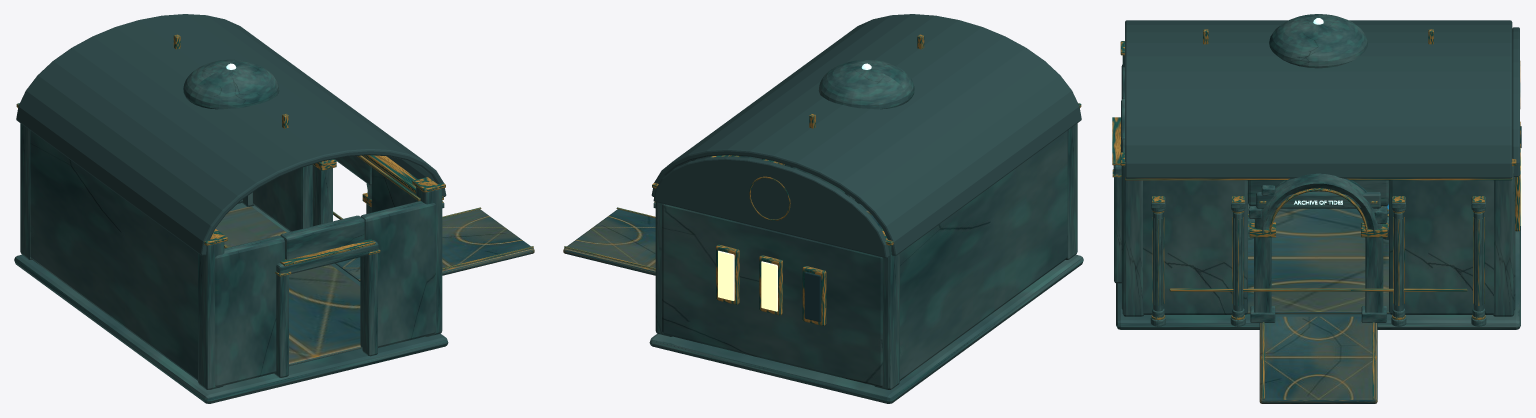
File: atlantis-archive.glb
3 renders of one model, left to right at view 1: azimuth 30°, elevation 25°; view 2: azimuth 150°, elevation 25°; view 3: azimuth 270°, elevation 25°, orthographic. The views are drawn at different scales.
Visible parts, largest first — view 1: ArchiveOfTides_BarrelRoof, ArchiveOfTides_RearWall, ArchiveOfTides_RearWallSegment_0, ArchiveOfTides_RearWallSegment_1, ArchiveOfTides_InteriorFloor, ArchiveOfTides_Foundation, ArchiveOfTides_Bridge, ArchiveOfTides_LanternDome, ArchiveOfTides_FacadePier_1, ArchiveOfTides_CornerButtress_00, ArchiveOfTides_RearDoorSpandrel, ArchiveOfTides_RearPortalJamb_1 (+9 smaller); view 2: ArchiveOfTides_BarrelRoof, ArchiveOfTides_SideWall_1, ArchiveOfTides_RearWall, ArchiveOfTides_NorthTympanum, ArchiveOfTides_Foundation, ArchiveOfTides_Bridge, ArchiveOfTides_LanternDome, ArchiveOfTides_CornerButtress_01, ArchiveOfTides_CornerButtress_00, ArchiveOfTides_CornerButtress_03, ArchiveOfTides_NorthTympanum_WindowGlow_00, ArchiveOfTides_NorthTympanum_WindowGlow_01 (+4 smaller); view 3: ArchiveOfTides_BarrelRoof, ArchiveOfTides_FacadePier_0, ArchiveOfTides_FacadePier_1, ArchiveOfTides_InteriorFloor, ArchiveOfTides_Bridge, ArchiveOfTides_Foundation, ArchiveOfTides_LanternDome, ColumnShaft_mesh (×4), ArchiveOfTides_CornerButtress_02, ArchiveOfTides_CornerButtress_03, ArchStoneArc_mesh, ArchiveOfTides_NamePlaque (+9 smaller).
Boxes of the visible parts, x1,y1,x2,y2 form: ArchiveOfTides_BarrelRoof: (16, 14, 446, 255); ArchiveOfTides_RearWall: (30, 131, 197, 380); ArchiveOfTides_RearWallSegment_0: (215, 235, 284, 387); ArchiveOfTides_RearWallSegment_1: (360, 201, 435, 347); ArchiveOfTides_InteriorFloor: (215, 206, 361, 366); ArchiveOfTides_Foundation: (14, 203, 448, 403); ArchiveOfTides_Bridge: (335, 209, 534, 281); ArchiveOfTides_LanternDome: (183, 59, 279, 109); ArchiveOfTides_FacadePier_1: (253, 164, 312, 231); ArchiveOfTides_CornerButtress_00: (198, 242, 224, 389); ArchiveOfTides_RearDoorSpandrel: (280, 215, 364, 259); ArchiveOfTides_RearPortalJamb_1: (362, 253, 377, 356); ArchiveOfTides_BarrelRoof: (651, 14, 1081, 255); ArchiveOfTides_SideWall_1: (662, 203, 882, 387); ArchiveOfTides_RearWall: (900, 131, 1067, 380); ArchiveOfTides_NorthTympanum: (653, 156, 889, 257); ArchiveOfTides_Foundation: (649, 203, 1083, 403); ArchiveOfTides_Bridge: (563, 209, 655, 275); ArchiveOfTides_LanternDome: (818, 59, 914, 109); ArchiveOfTides_CornerButtress_01: (874, 245, 899, 389); ArchiveOfTides_CornerButtress_00: (1066, 123, 1077, 259); ArchiveOfTides_CornerButtress_03: (655, 202, 671, 336); ArchiveOfTides_NorthTympanum_WindowGlow_00: (804, 272, 821, 322); ArchiveOfTides_NorthTympanum_WindowGlow_01: (761, 261, 777, 311); ArchiveOfTides_BarrelRoof: (1125, 20, 1512, 178); ArchiveOfTides_FacadePier_0: (1143, 180, 1247, 314); ArchiveOfTides_FacadePier_1: (1389, 180, 1493, 314); ArchiveOfTides_InteriorFloor: (1247, 205, 1389, 314); ArchiveOfTides_Bridge: (1259, 316, 1377, 403); ArchiveOfTides_Foundation: (1116, 203, 1520, 329); ArchiveOfTides_LanternDome: (1269, 14, 1367, 68); ColumnShaft_mesh (×4): (1153, 212, 1483, 311); ArchiveOfTides_CornerButtress_02: (1122, 166, 1143, 316); ArchiveOfTides_CornerButtress_03: (1493, 166, 1514, 316); ArchStoneArc_mesh: (1254, 173, 1382, 233); ArchiveOfTides_NamePlaque: (1256, 192, 1380, 208).
Bounding box in the file's own units: 13.61 × 7.89 × 11.63.
Materials: 17 (13 with a texture image).
